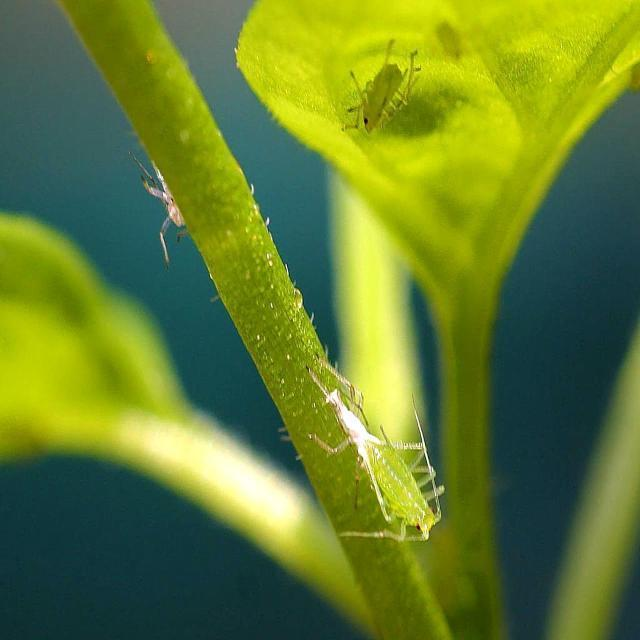Aphids: (182, 175, 308, 240), (230, 176, 255, 199)
